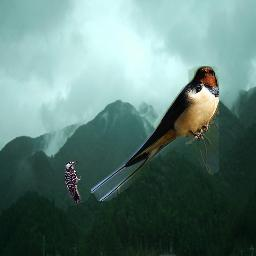Swallow: (91, 66, 219, 201)
Woodpecker: (65, 161, 81, 205)
